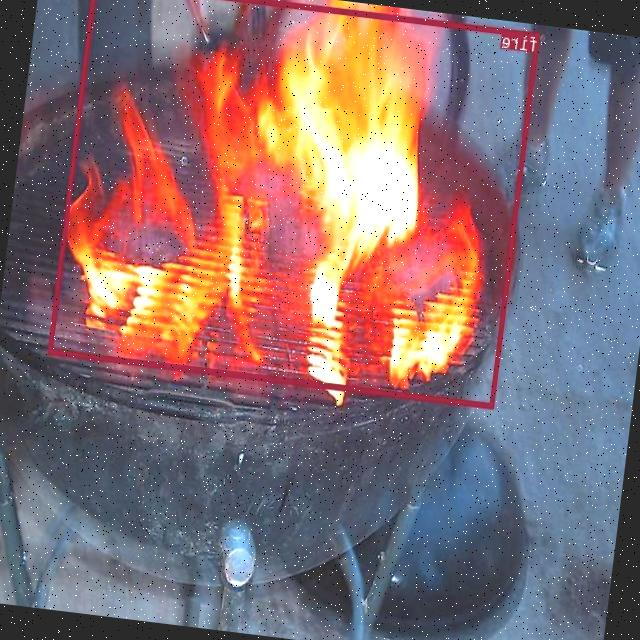fire: (48, 0, 540, 407)
